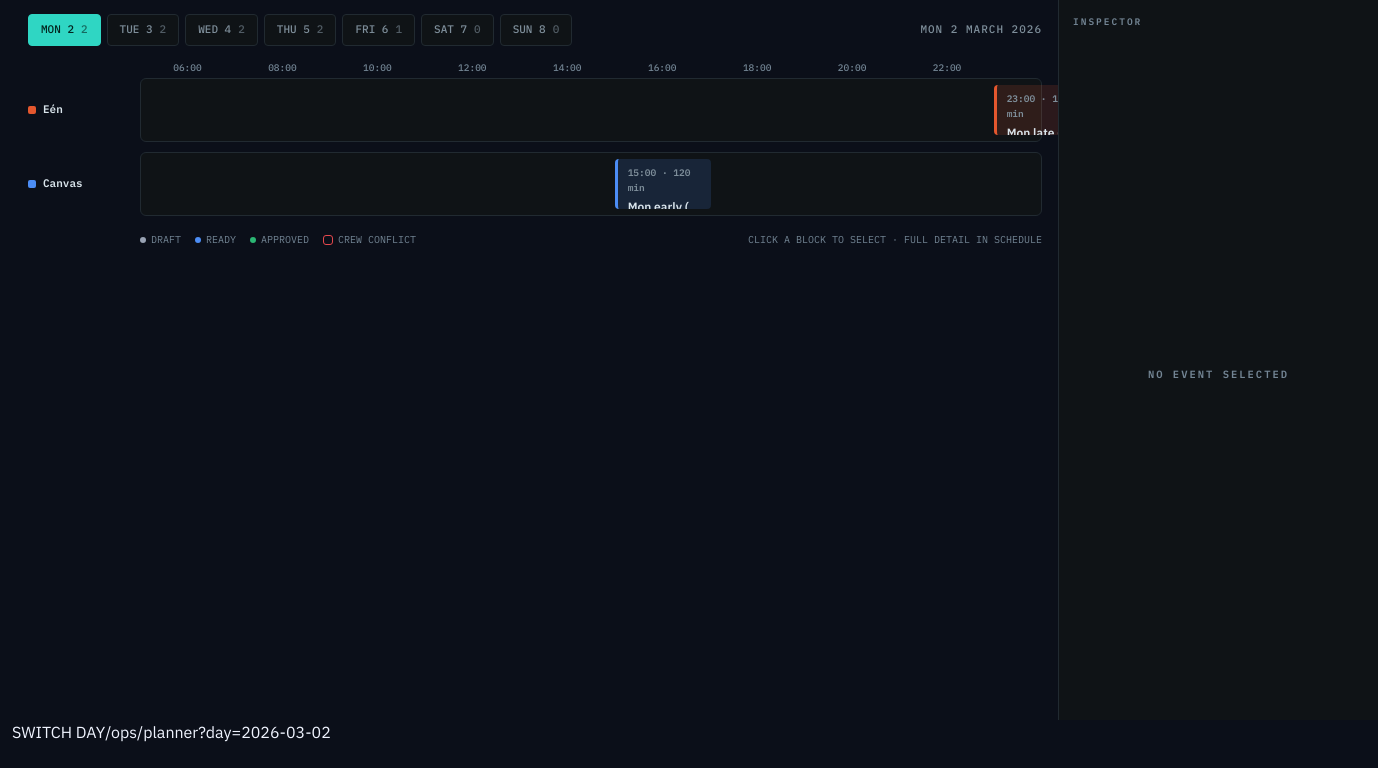
Test: day pills (B-2-T1 — README §2 pill row bound to useOpsDay) › pill click sets ?day= (useOpsDay) and the lanes re-derive for the new day
Click the button "THU 5 2" at (300, 30), box [264,14,336,46]
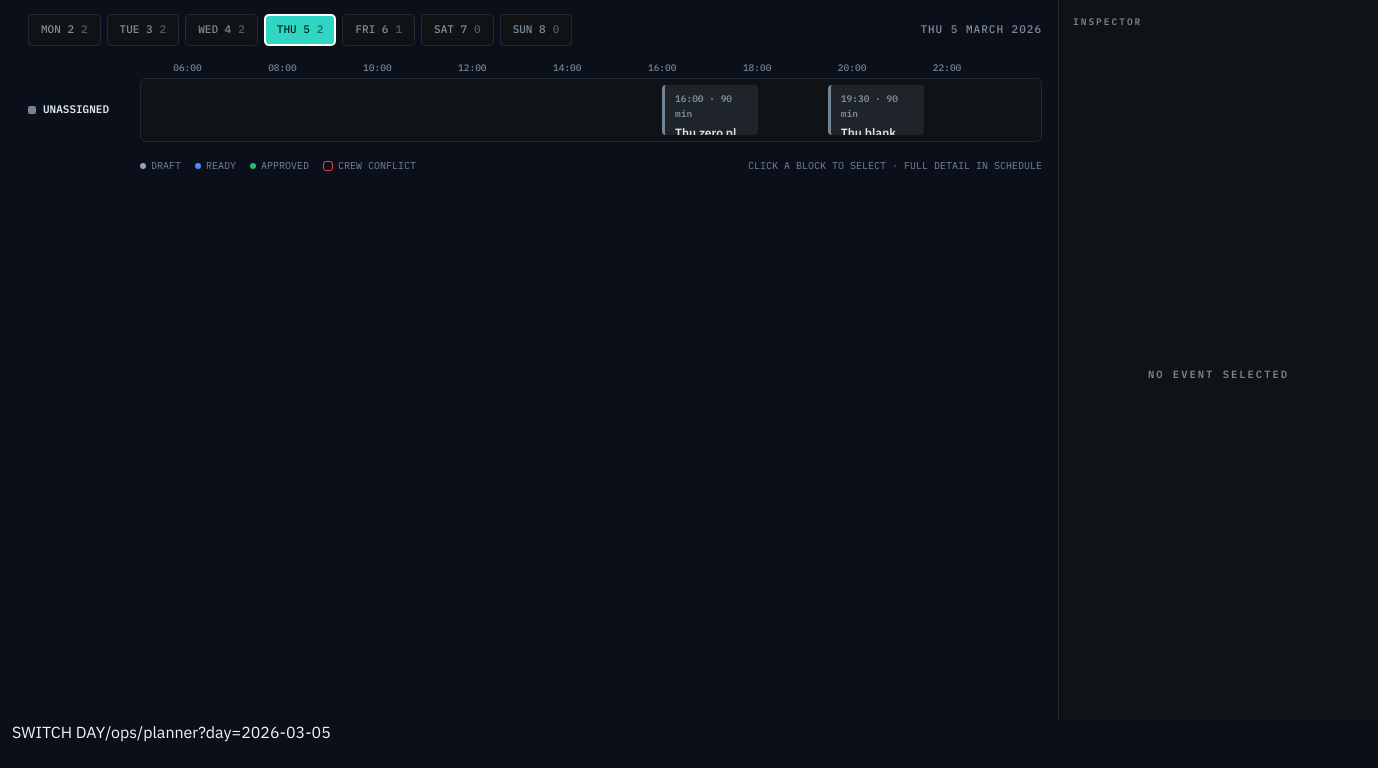
expect the text with test id "location" reads "/ops/planner?day=2026-03-05": met, box [105,722,331,742]
